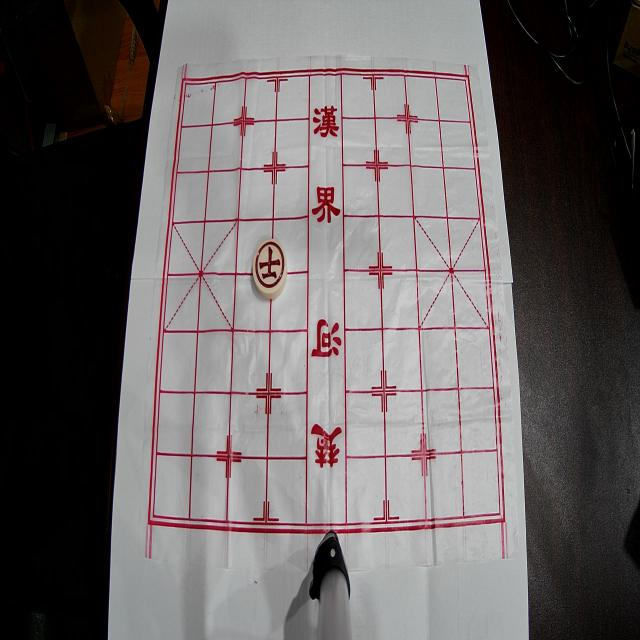red-guard: (252, 238, 288, 300)
